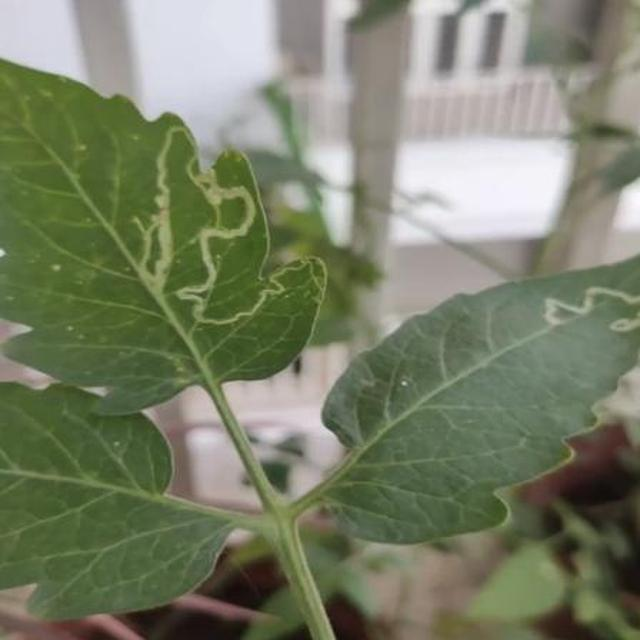Leaf Miner: (238, 332, 640, 567)
